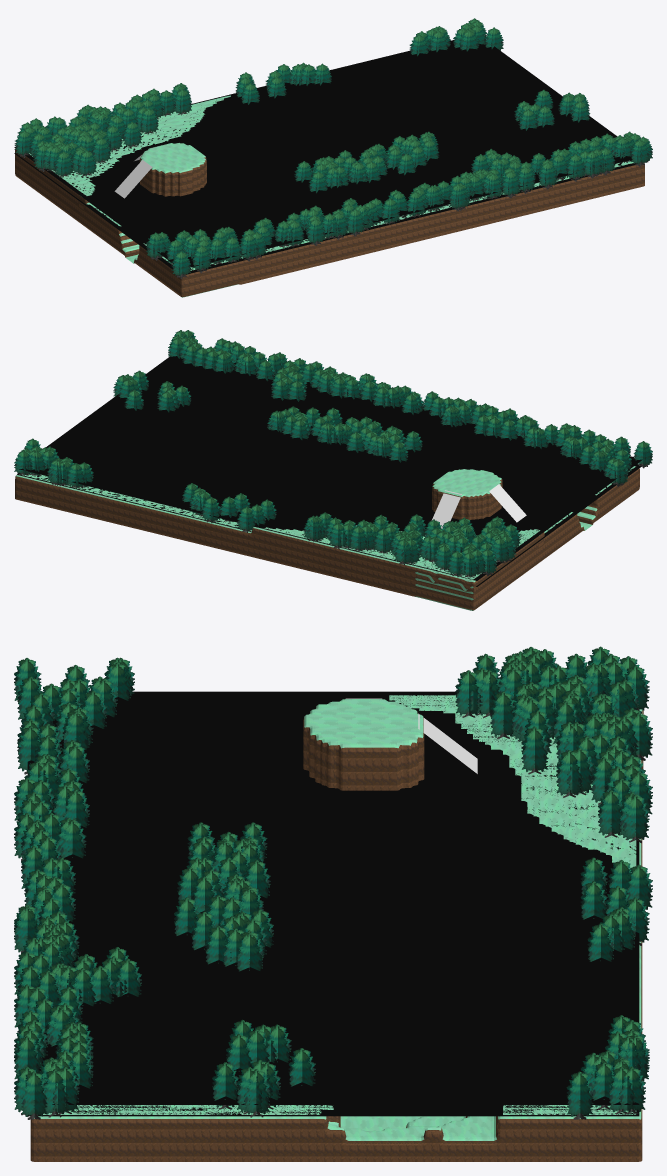
File: pinwheel terrain.fbx
3 renders of one model, top to bottom at view 1: azimuth 30°, elevation 25°; view 2: azimuth 150°, elevation 25°; view 3: azimuth 270°, elevation 25°, orthographic. The views are drawn at different scales.
Parts seen in each view (by area): view 1: TreesUpper, Ground, Plane, TreeTrunkTop1; view 2: TreesUpper, Ground, Plane, TreeTrunkTop2, TreeTrunkTop1; view 3: TreesUpper, Ground, Plane, Plane|Tree1|Dupli|54, TreesUpper|Tree1|Dupli|9, Plane|Tree1|Dupli|82, TreesUpper|Tree1|Dupli|70, TreesUpper|Tree1|Dupli|29, TreesUpper|Tree1|Dupli|19, TreesUpper|Tree1|Dupli|41, TreeTrunkTop2, TreesUpper|Tree1|Dupli|13 (+12 smaller).
Part boxes in pixels (x1=…): TreesUpper: x1=14, y1=40, x2=632, y2=267; Ground: x1=15, y1=95, x2=644, y2=297; Plane: x1=14, y1=153, x2=644, y2=274; TreeTrunkTop1: x1=114, y1=160, x2=152, y2=198; TreesUpper: x1=19, y1=356, x2=642, y2=580; Ground: x1=15, y1=466, x2=639, y2=610; Plane: x1=17, y1=464, x2=642, y2=586; TreeTrunkTop2: x1=431, y1=490, x2=461, y2=528; TreeTrunkTop1: x1=489, y1=484, x2=526, y2=522; TreesUpper: x1=27, y1=691, x2=639, y2=1104; Ground: x1=30, y1=695, x2=643, y2=1161; Plane: x1=27, y1=1105, x2=639, y2=1116; Plane|Tree1|Dupli|54: x1=566, y1=1071, x2=593, y2=1119; TreesUpper|Tree1|Dupli|9: x1=521, y1=726, x2=548, y2=774; Plane|Tree1|Dupli|82: x1=21, y1=1071, x2=47, y2=1119; TreesUpper|Tree1|Dupli|70: x1=623, y1=794, x2=649, y2=842; TreesUpper|Tree1|Dupli|29: x1=490, y1=691, x2=514, y2=738; TreesUpper|Tree1|Dupli|19: x1=598, y1=790, x2=622, y2=837; TreesUpper|Tree1|Dupli|41: x1=455, y1=670, x2=481, y2=717; TreeTrunkTop2: x1=418, y1=713, x2=477, y2=773; TreesUpper|Tree1|Dupli|13: x1=556, y1=750, x2=582, y2=797.
Bounding box in the file's own units: 16600 × 1816 × 10445.
5 materials, 5 textured.
